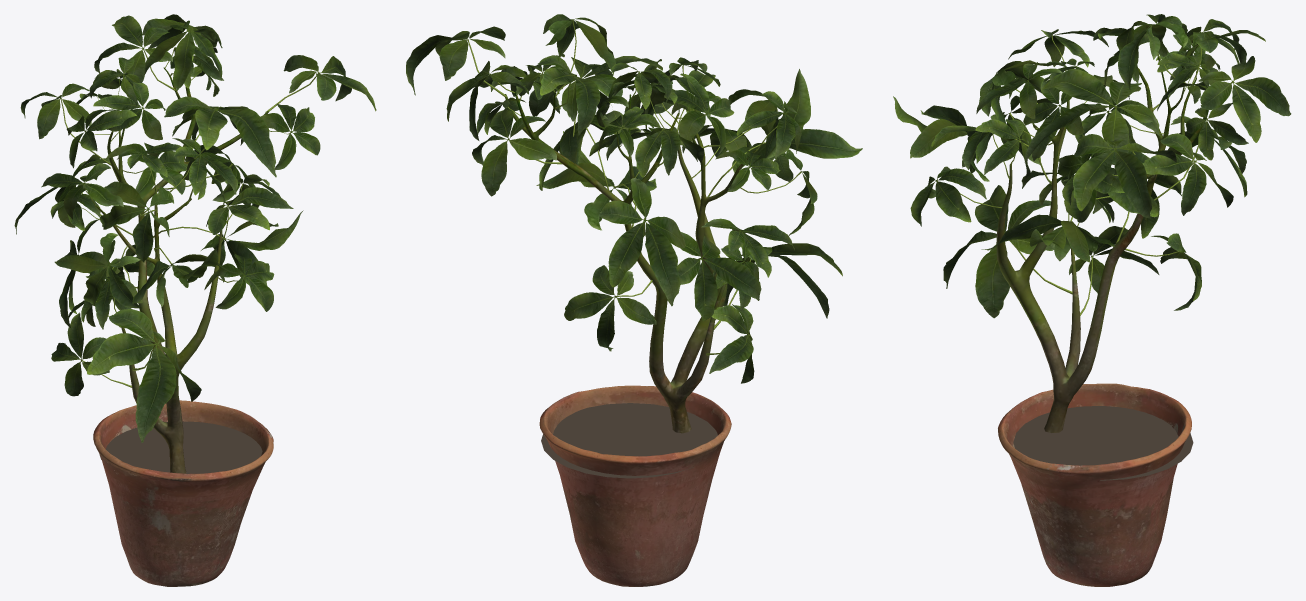
File: plant_money_tree_small.glb
3 renders of one model, left to right at view 1: azimuth 30°, elevation 25°; view 2: azimuth 150°, elevation 25°; view 3: azimuth 270°, elevation 25°, orthographic. The views are drawn at different scales.
Parts seen in each view (by area): view 1: pachira_aquatica_01_leaves_c, planter_pot_clay, pachira_aquatica_01_bark_c, soil; view 2: pachira_aquatica_01_leaves_c, planter_pot_clay, pachira_aquatica_01_bark_c, soil; view 3: pachira_aquatica_01_leaves_c, planter_pot_clay, pachira_aquatica_01_bark_c, soil.
Part boxes in pixels (<box>): pachira_aquatica_01_leaves_c: <box>14,14,376,442</box>; planter_pot_clay: <box>93,400,273,586</box>; pachira_aquatica_01_bark_c: <box>96,67,268,473</box>; soil: <box>99,421,262,473</box>; pachira_aquatica_01_leaves_c: <box>406,14,862,383</box>; planter_pot_clay: <box>539,385,731,586</box>; pachira_aquatica_01_bark_c: <box>505,91,756,433</box>; soil: <box>541,403,717,478</box>; pachira_aquatica_01_leaves_c: <box>893,14,1291,318</box>; planter_pot_clay: <box>998,383,1191,586</box>; pachira_aquatica_01_bark_c: <box>996,53,1208,432</box>; soil: <box>1013,406,1193,480</box>.
Size of the model in its own units: 0.829 by 1.22 by 0.7852.
Materials: 4 (3 with a texture image).
